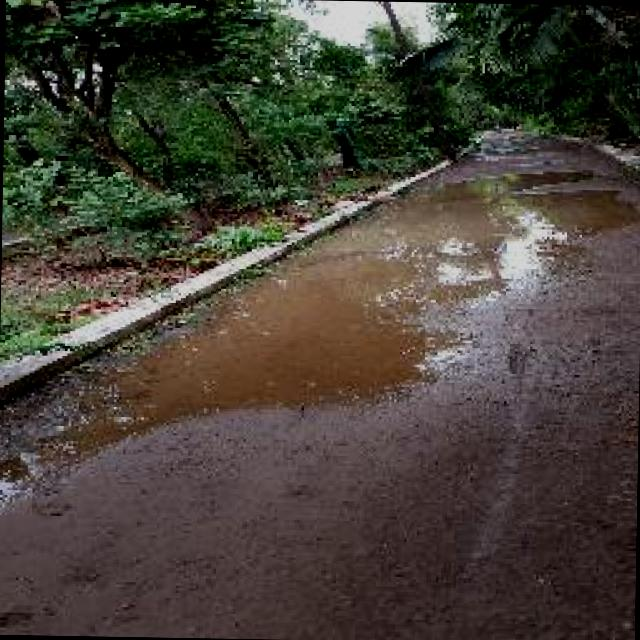stagnation: (1, 150, 640, 513)
